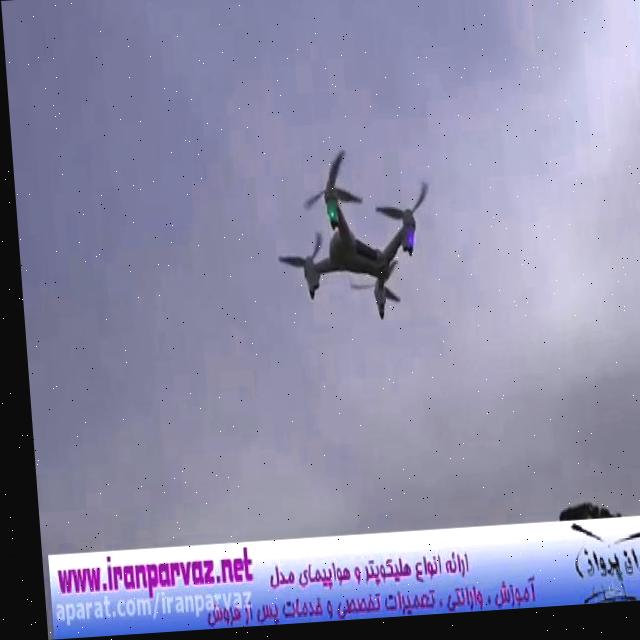drone: (262, 144, 436, 333)
